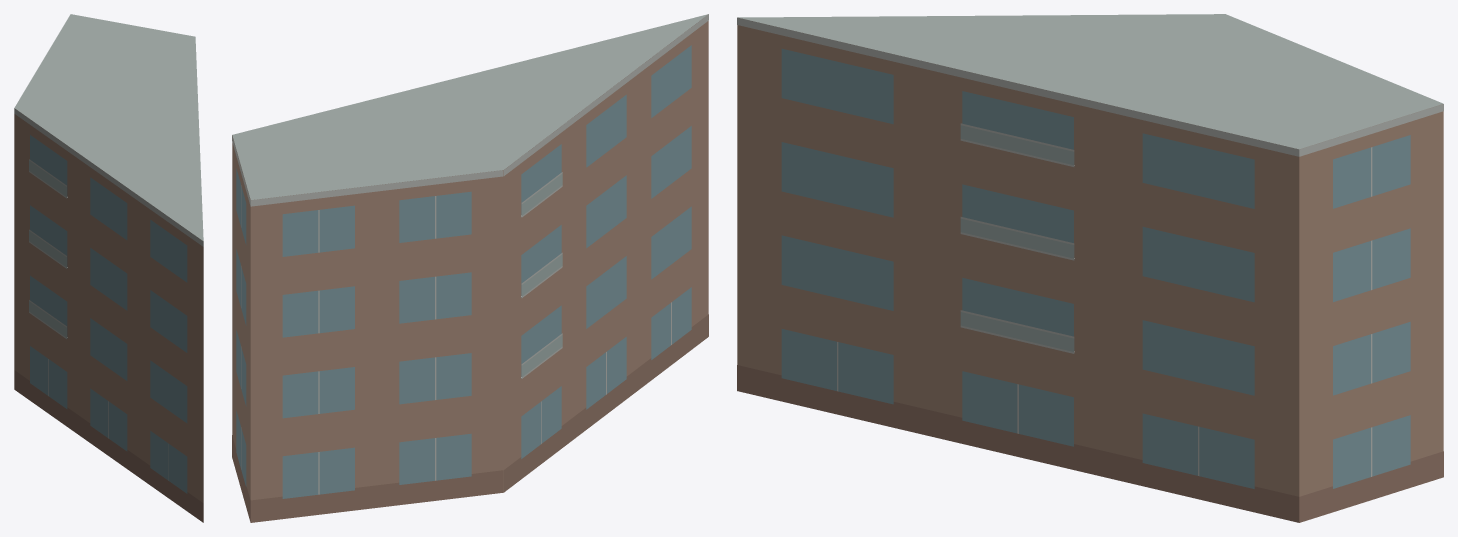
File: residential-fd5453a1-5c33-4ad9-9aff-15bcf3457a7f.glb
3 views of the same model, side by side, from view 1: azimuth 30°, elevation 25°; view 2: azimuth 150°, elevation 25°; view 3: azimuth 270°, elevation 25° (orthographic). The views are drawn at different scales.
Visible parts, largest first — view 1: residential-fd5453a1-5c33-4ad9-9aff-15bcf3457a7f.tmp; view 2: residential-fd5453a1-5c33-4ad9-9aff-15bcf3457a7f.tmp; view 3: residential-fd5453a1-5c33-4ad9-9aff-15bcf3457a7f.tmp.
Boxes of the visible parts, x1,y1,x2,y2 form: residential-fd5453a1-5c33-4ad9-9aff-15bcf3457a7f.tmp: (14,14,203,522); residential-fd5453a1-5c33-4ad9-9aff-15bcf3457a7f.tmp: (232,14,708,522); residential-fd5453a1-5c33-4ad9-9aff-15bcf3457a7f.tmp: (737,14,1443,522).
Size of the model in its own units: 9.5 by 12.2 by 20.92.
